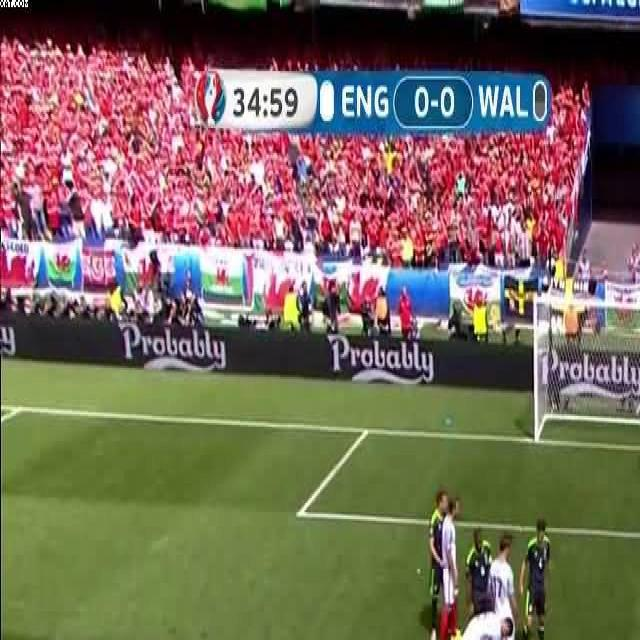player-white: (519, 517, 551, 640), (464, 528, 498, 640), (427, 489, 451, 640), (486, 535, 520, 640), (440, 494, 463, 640), (460, 606, 512, 640)
